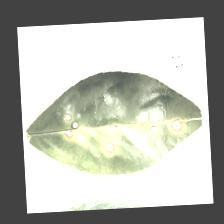canker: (61, 105, 182, 155)
